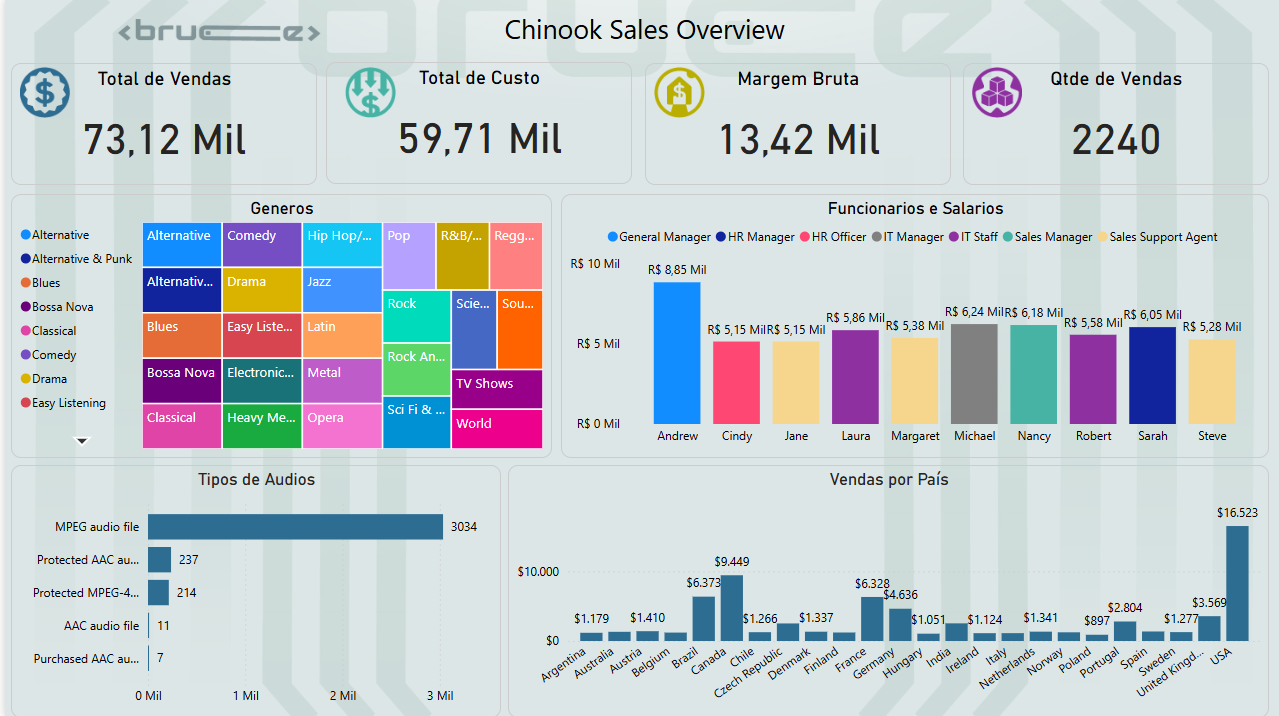

What the dashboard file says about the page in this screenshot:
{"tool":"powerbi","page":{"name":"Sales Overview","canvas":[1280,720],"ordinal":0},"visuals":[{"type":"card","title":"Total de Custo","fields":{"Values":["#Medidas.Cost"]},"box":[321,64,306,122],"z":0},{"type":"card","title":"Margem Bruta","fields":{"Values":["#Medidas.Gross Margin"]},"box":[640,65,306,122],"z":1000},{"type":"card","title":"Total de Vendas","fields":{"Values":["#Medidas.Sales Amount2"]},"box":[6.2,64.7,306,122.4],"z":2000},{"type":"card","title":"Qtde de Vendas","fields":{"Values":["#Medidas.Sales Quantity"]},"box":[958,65,306,122],"z":3000},{"type":"textbox","box":[461,7,357,47],"z":4000},{"type":"image","box":[6,64,68,61],"z":5000},{"type":"image","box":[331,64,68,61],"z":6000},{"type":"image","box":[640,64,68,61],"z":7000},{"type":"image","box":[958,64,68,61],"z":8000},{"type":"treemap","title":"Generos","fields":{"Values":["Genre.Name"],"Group":["Genre.Name"]},"box":[6,196,541,264],"z":9000},{"type":"clusteredColumnChart","title":"Vendas por País","fields":{"Category":["Customer.Country"],"Y":["InvoiceLine.UnitPrice"]},"box":[502.8,467.3,761.7,252.7],"z":10000},{"type":"columnChart","title":"Funcionarios e Salarios","fields":{"Y":["Employee.Salary"],"Category":["Employee.FirstName"],"Series":["Employee.Title"]},"box":[556,196,708.5,264.2],"z":11000},{"type":"clusteredBarChart","title":"Tipos de Audios","fields":{"Y":["Track.GenreId"],"Category":["MediaType.Name"]},"box":[6.2,467.3,489.5,252.7],"z":12000}]}

Visuals, with their boxes in screenshot pixels (x1, y1, x2, y2), scaled from the page's 1280x720 canvas onto the 1279x716 screenshot:
"Total de Custo" card: bbox=[321, 64, 627, 185]
"Margem Bruta" card: bbox=[640, 65, 945, 186]
"Total de Vendas" card: bbox=[6, 64, 312, 186]
"Qtde de Vendas" card: bbox=[957, 65, 1263, 186]
textbox: bbox=[461, 7, 817, 54]
image: bbox=[6, 64, 74, 124]
image: bbox=[331, 64, 399, 124]
image: bbox=[640, 64, 707, 124]
image: bbox=[957, 64, 1025, 124]
"Generos" treemap: bbox=[6, 195, 547, 457]
"Vendas por País" clusteredColumnChart: bbox=[502, 465, 1264, 715]
"Funcionarios e Salarios" columnChart: bbox=[556, 195, 1264, 458]
"Tipos de Audios" clusteredBarChart: bbox=[6, 465, 495, 715]
